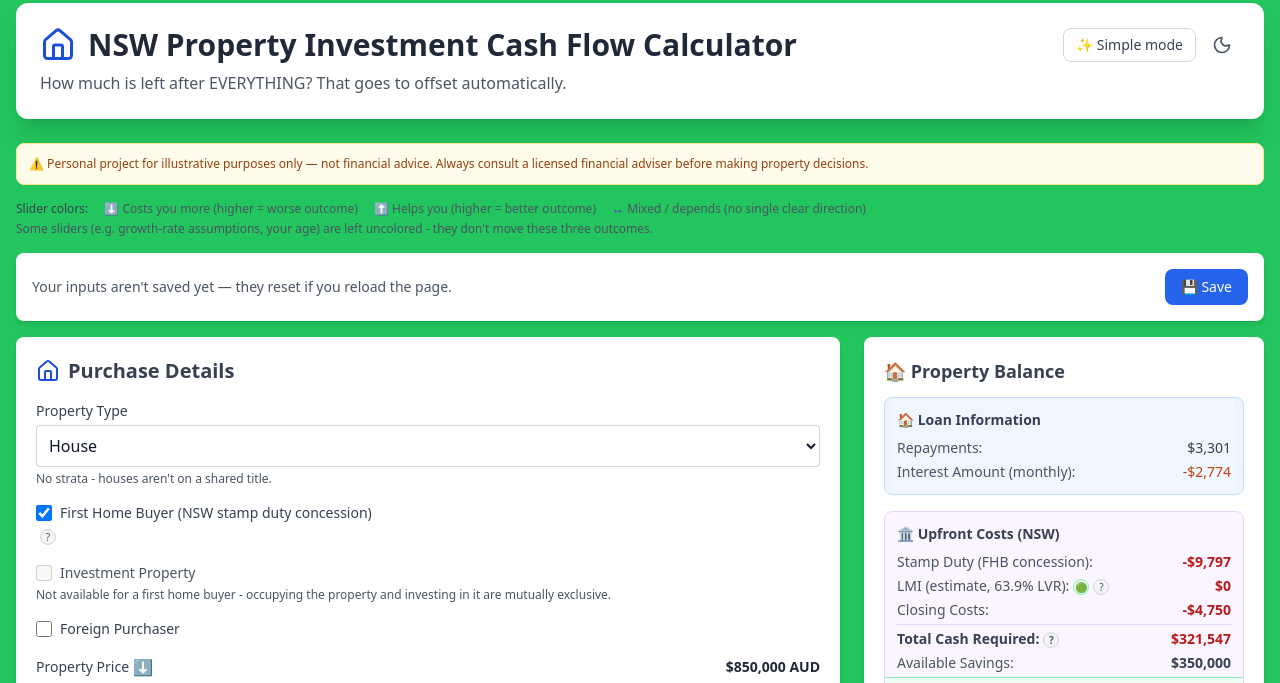
Test: Simple / Advanced UI mode (TODO-135) › Simple mode shows only the three-indicator Health Check subset
Step 1. Click the button "✨ Simple mode" → (1130, 45), box x1=1063 y1=28 x2=1196 y2=62
(page scrolled)
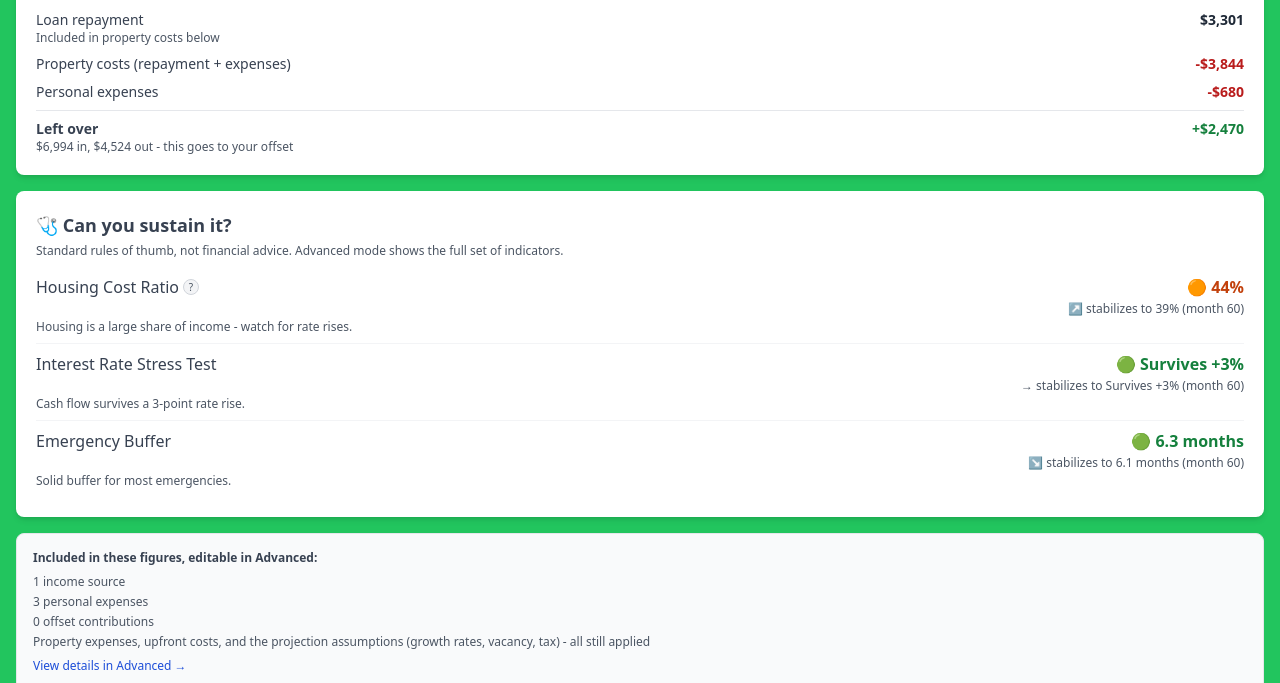
Check: the text "Housing Cost Ratio" is shown, box x1=36 y1=276 x2=179 y2=298
Check: the text "Interest Rate Stress Test" is shown, box x1=36 y1=352 x2=216 y2=376
Check: the text "Emergency Buffer" is shown, box x1=36 y1=429 x2=171 y2=453
